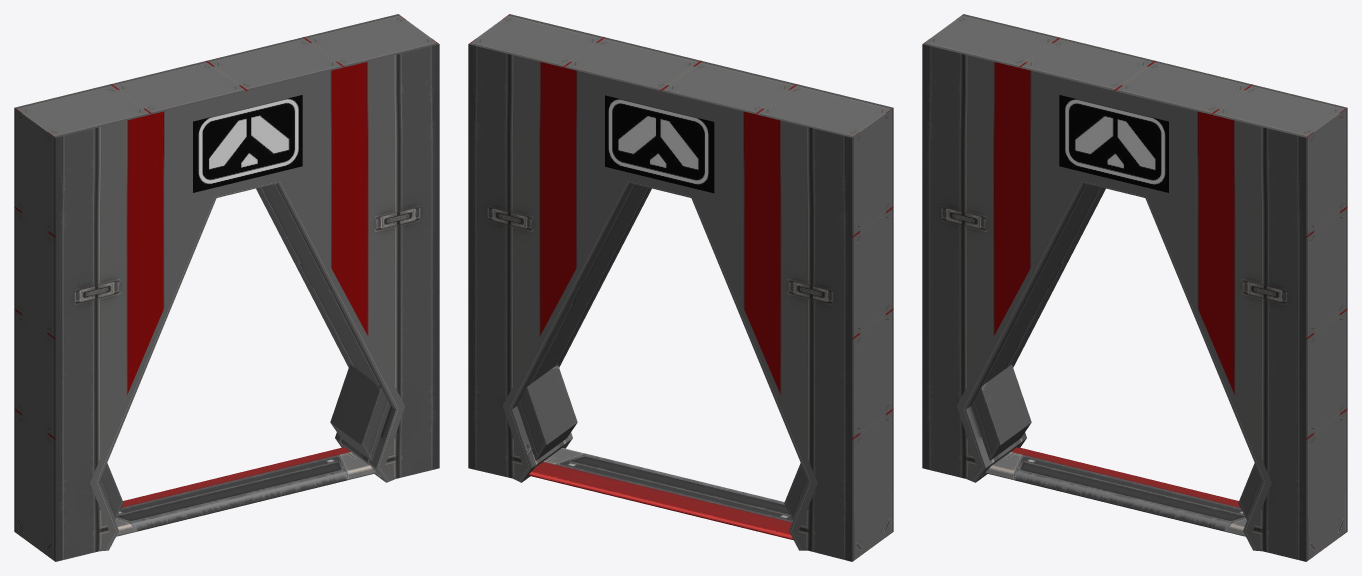
File: door_frame_a.gltf
3 views of the same model, side by side, from view 1: azimuth 30°, elevation 25°; view 2: azimuth 150°, elevation 25°; view 3: azimuth 330°, elevation 25° (orthographic).
Parts seen in each view (by area): view 1: Door_Frame_A; view 2: Door_Frame_A; view 3: Door_Frame_A.
Part boxes in pixels (bbox=[...]): Door_Frame_A: bbox=[14, 14, 439, 561]; Door_Frame_A: bbox=[468, 14, 893, 561]; Door_Frame_A: bbox=[922, 14, 1347, 561].
Size of the model in its own units: 4.87 by 5.16 by 0.9274.
Materials: 3 (3 with a texture image).
